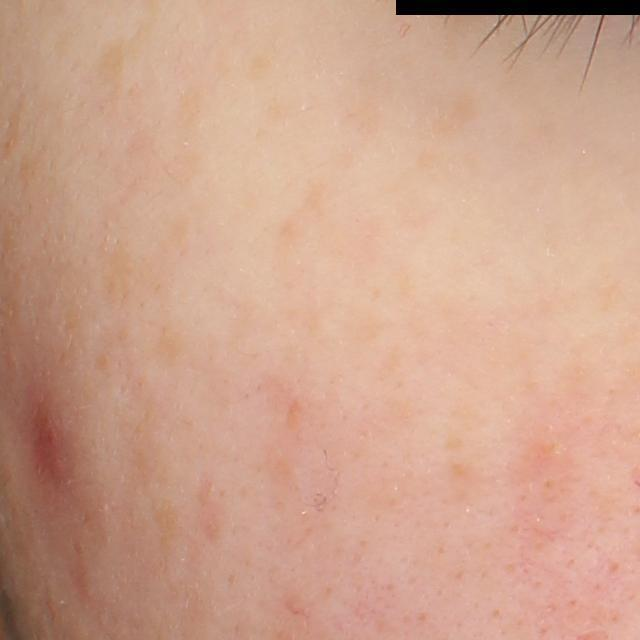melasma: (381, 153, 456, 232), (332, 84, 385, 141), (424, 94, 481, 139), (173, 80, 212, 137), (250, 52, 279, 79)
